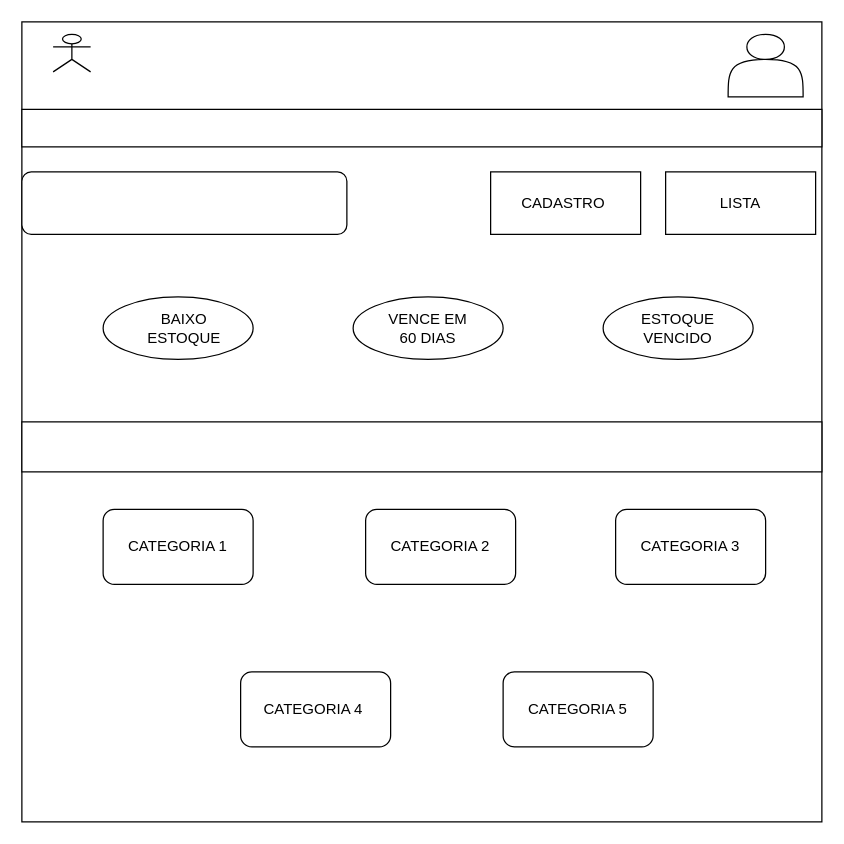
Some shapes in this 844 by 844 pixel diagram are drawn without their labels. The centre of each missing label's shape, as x and y in pixels:
Actor: [71,52]
ESTOQUE: [421,127]
PESQUISA: [184,202]
PRODUTOS: [421,446]
